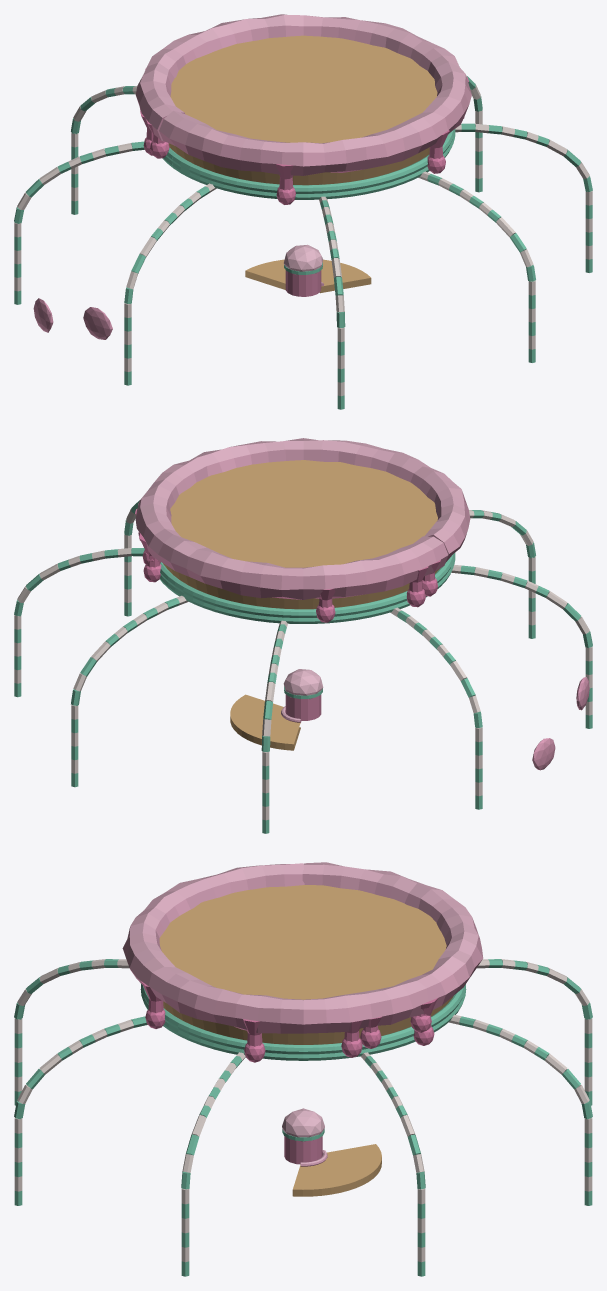
Rendered from goo_jar_trim_3_top@candy.fbx.
3 views of the same model, one above another, from view 1: azimuth 30°, elevation 25°; view 2: azimuth 150°, elevation 25°; view 3: azimuth 270°, elevation 25° (orthographic). The views are drawn at different scales.
Visible parts, largest first — view 1: goo_jar_trim_3_top; view 2: goo_jar_trim_3_top; view 3: goo_jar_trim_3_top.
Boxes of the visible parts, bbox=[...] form: goo_jar_trim_3_top: bbox=[14, 14, 592, 409]; goo_jar_trim_3_top: bbox=[14, 438, 592, 833]; goo_jar_trim_3_top: bbox=[14, 862, 592, 1276].
Size of the model in its own units: 47.31 by 20.21 by 45.36.
